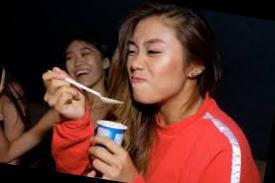Drunk: (126, 19, 186, 103), (65, 37, 103, 86)
